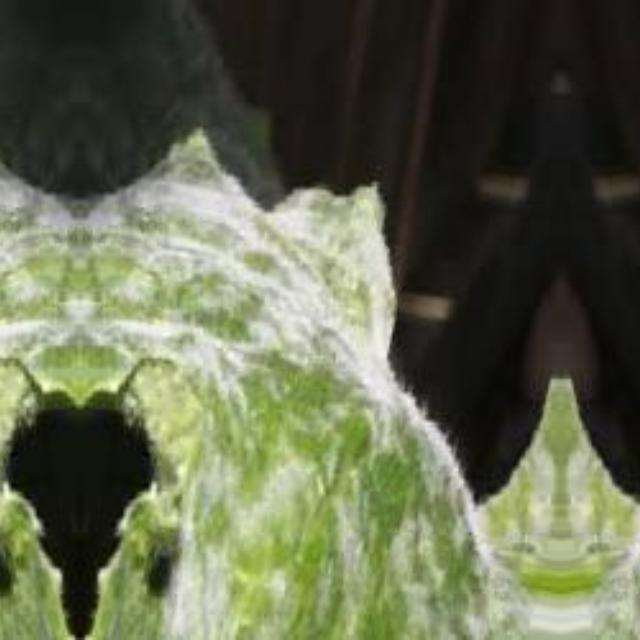Powdery_mildew: (130, 394, 556, 636), (79, 144, 412, 392), (0, 144, 79, 392), (565, 394, 640, 635), (0, 394, 27, 635)
